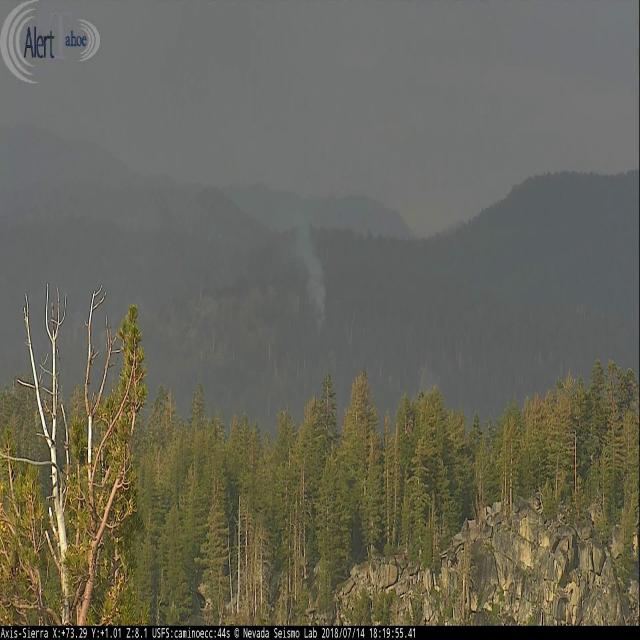smoke: (228, 168, 327, 331)
